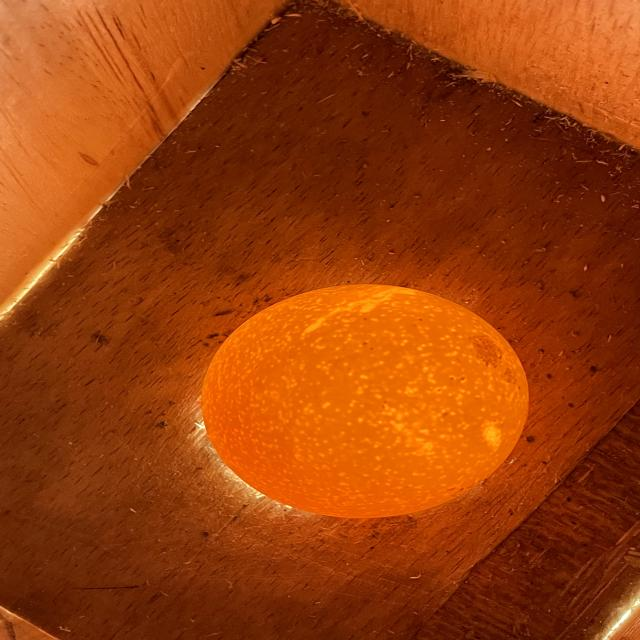infertile: (202, 285, 528, 517)
